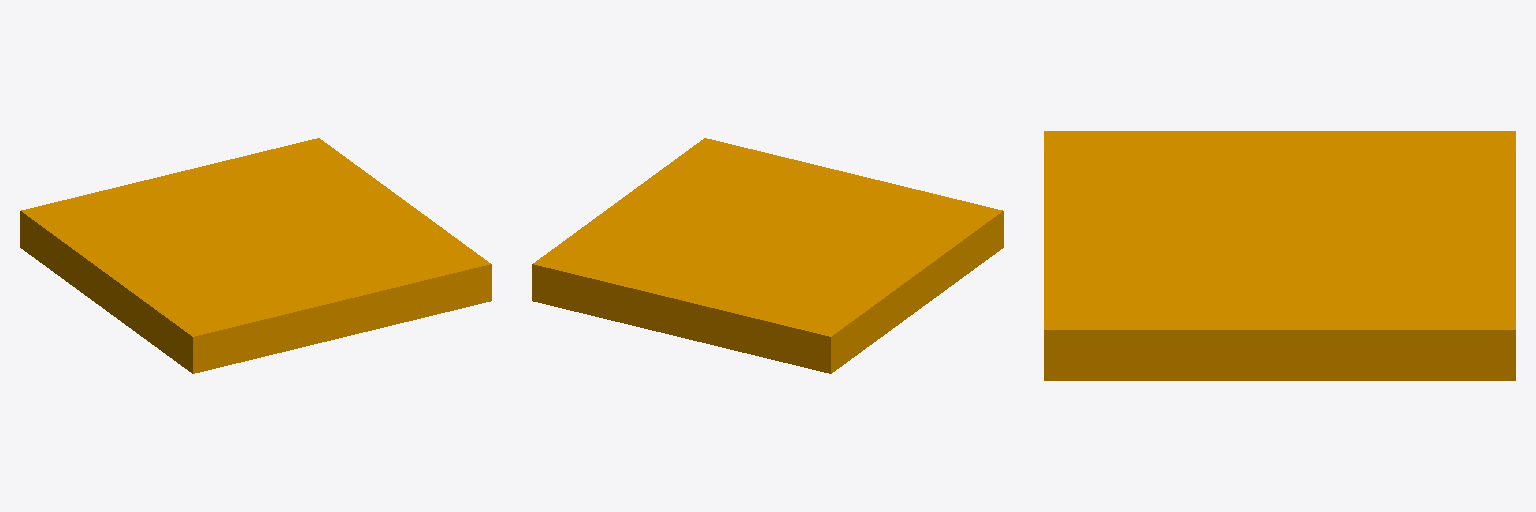
robot.urdf — apriltag_14_3611:
<robot name="apriltag_14_3611">

    <link name="apriltag_link_id14">
        <inertial>
            <origin xyz="0 0 0" rpy="0 0 0"/>
            <mass value="1.0"/>
            <inertia ixx="0.07461" ixy="0.0" ixz="0.0" iyy="0.5854" iyz="0.0" izz="0.02641"/>
        </inertial>
        <collision>
            <origin xyz="0 0 0" rpy="0 0 0"/>
            <geometry>
                <box size="0.2 0.2 0.1"/>
            </geometry>
        </collision>
        <visual>
            <origin xyz="0 0 0" rpy="0 0 0"/>
            <geometry>
                <mesh filename="package://apriltag_description/meshes/apriltag_14.dae"/>
            </geometry>
        </visual>
    </link>
    
    <gazebo reference="apriltag_link_id14">
        <kp>100000.0</kp>
        <kd>100000.0</kd>
        <mu1>0.1</mu1>
        <mu2>0.1</mu2>  
        <fdir1>1 0 0</fdir1>

           <!-- this tag may be unecessary if static is set to true
            (but using since may set static to false later)-->
        <gravity>0</gravity>
    </gazebo>

    <!-- Make sure that the reference="" attribute is not specified -->
    <gazebo>
        <static>true</static>
     
        
    </gazebo>
    

</robot>

--- Facts derived from the render (not from the file) ---
Views: 3 orthographic renders of the robot side by side, from view 1: azimuth 30°, elevation 25°; view 2: azimuth 150°, elevation 25°; view 3: azimuth 270°, elevation 25°.
Robot: apriltag_14_3611 — 1 links, 0 joints (none); root link apriltag_link_id14; default pose: all joints at 0.
Links seen in each view (by area): view 1: apriltag_link_id14; view 2: apriltag_link_id14; view 3: apriltag_link_id14.
Link boxes in pixels (x1,y1,x2,y2): apriltag_link_id14: (20,138,491,373); apriltag_link_id14: (532,138,1003,373); apriltag_link_id14: (1044,131,1515,380).
Size in the robot's own frame: 0.16 by 0.16 by 0.019 metres.
1 mesh visuals loaded from 1 distinct referenced files (1 Collada DAE).